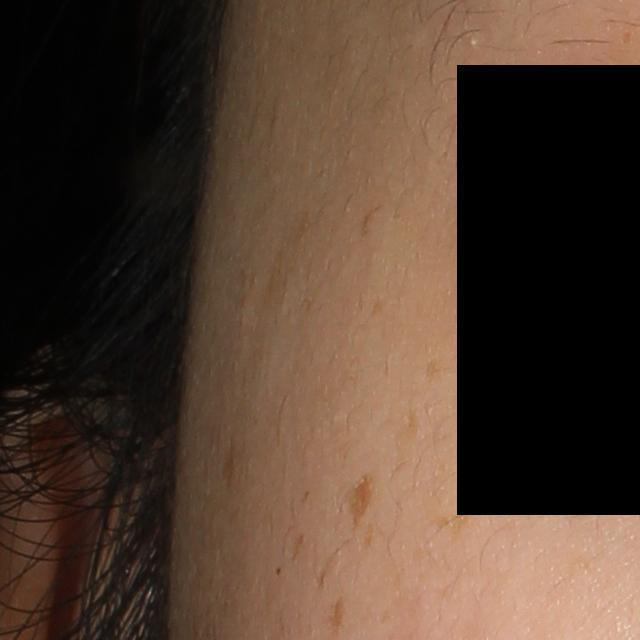melasma: (427, 500, 488, 542), (337, 473, 376, 526), (324, 593, 350, 639), (421, 354, 443, 383), (289, 531, 308, 562)
